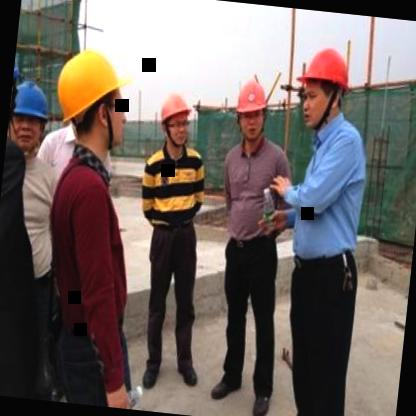helmet: (47, 42, 137, 160), (294, 44, 355, 129), (4, 81, 56, 168), (226, 70, 274, 148), (155, 86, 194, 149), (6, 35, 25, 140)
